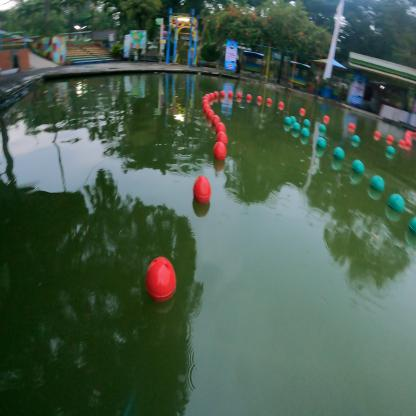green_buoy: (387, 192, 405, 214), (369, 175, 385, 192), (352, 158, 364, 174), (408, 215, 415, 238), (333, 147, 344, 160), (316, 136, 326, 149), (301, 127, 310, 139), (284, 116, 292, 126), (386, 146, 396, 154), (289, 115, 297, 124), (302, 119, 310, 128), (293, 122, 301, 131), (352, 134, 360, 143), (318, 124, 327, 131)
red_buoy: (145, 257, 176, 304), (194, 176, 211, 203), (212, 141, 227, 160), (215, 130, 228, 146), (215, 121, 226, 136), (211, 114, 221, 125), (206, 109, 215, 119), (203, 104, 211, 113), (202, 96, 209, 104), (202, 99, 209, 107), (387, 134, 394, 141), (209, 92, 215, 100), (204, 94, 210, 101), (324, 115, 330, 121), (349, 122, 355, 128), (299, 108, 306, 113), (220, 91, 226, 96), (214, 92, 219, 98), (237, 92, 242, 98), (279, 101, 284, 107), (375, 131, 380, 137), (228, 91, 233, 96), (247, 94, 252, 99), (257, 96, 262, 101), (267, 98, 272, 103)
